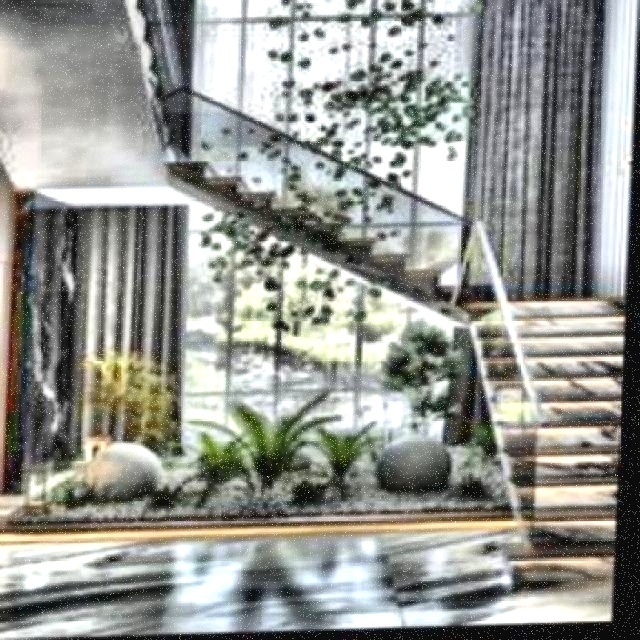stair: (469, 295, 626, 588)
